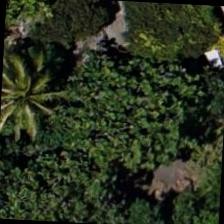Kelapa_Sawit: (0, 51, 66, 145)
